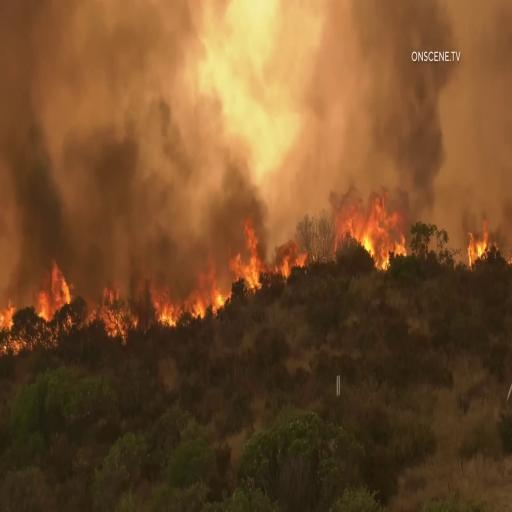fire: (330, 168, 405, 272), (138, 275, 235, 331), (230, 222, 305, 287), (22, 272, 76, 336), (462, 219, 504, 280)
smoke: (6, 116, 70, 270), (406, 94, 442, 205)
